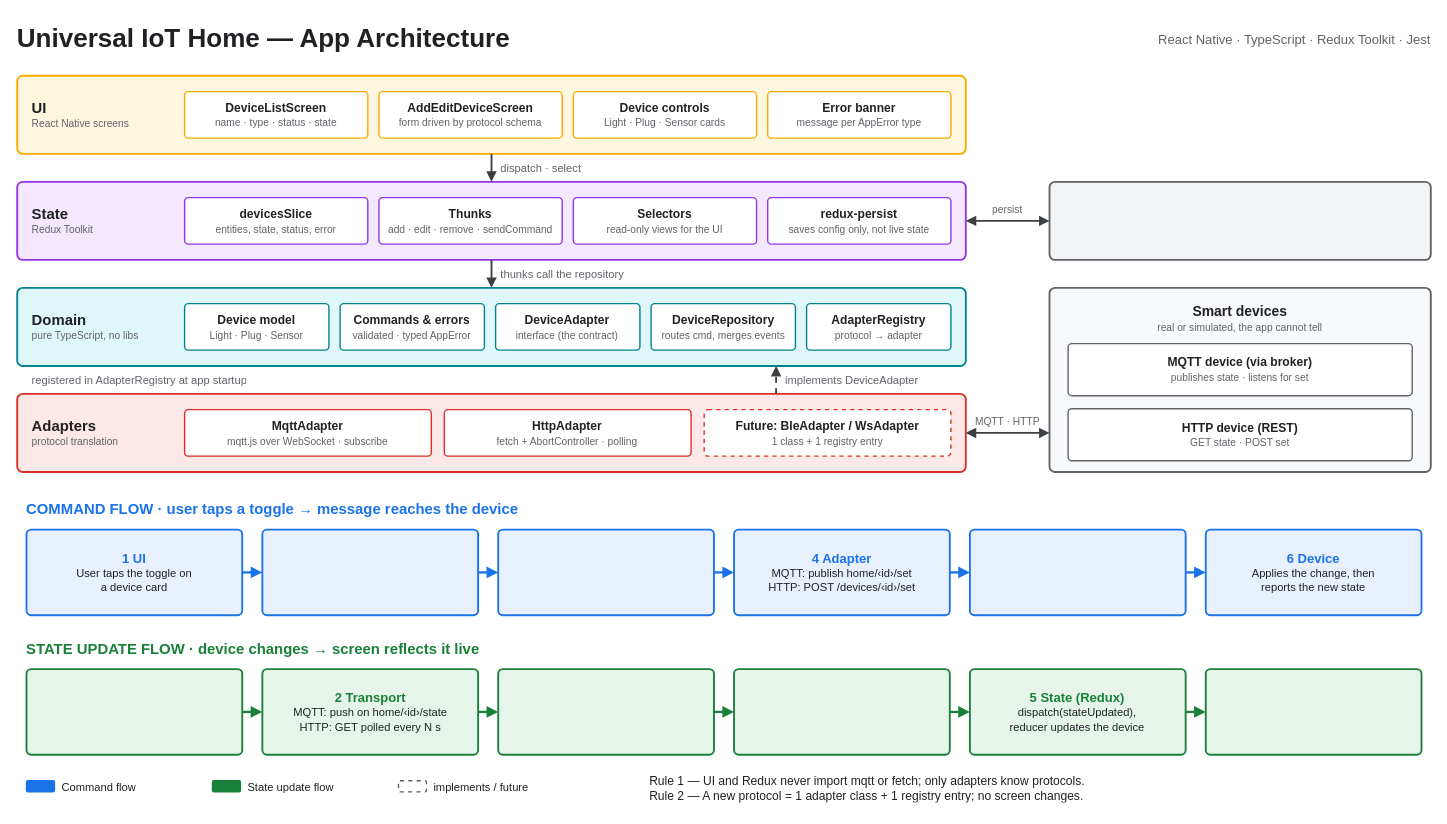
The diagram is 1447 pixels wide and 824 high, and some of its shapes have lost their labels. Here are the shapes that lost their labels. From the top down, the centre of each, then its label:
At [1239,220]: "Local storage AsyncStorage · saved device config".
At [370,572]: "2 State (Redux) dispatch(sendCommand(id, cmd)) thunk runs".
At [605,572]: "3 Domain Repository validates command, Registry picks the adapter".
At [1077,572]: "5 Transport mqtt.js (WebSocket) or fetch timeouts → typed AppError".
At [134,711]: "1 Device State changes, e.g. someone flips the plug on".
At [605,711]: "3 Adapter Parses JSON → DeviceState, maps failures to AppError".
At [841,711]: "4 Repository Forwards adapter events (state · status · error)".
At [1313,711]: "6 UI Selector fires, the card re-renders, no refresh".
